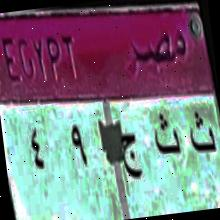4: (25, 119, 48, 178)
9: (67, 116, 90, 182)
jeem: (116, 124, 147, 186)
thaa: (182, 98, 218, 166), (148, 106, 184, 165)
